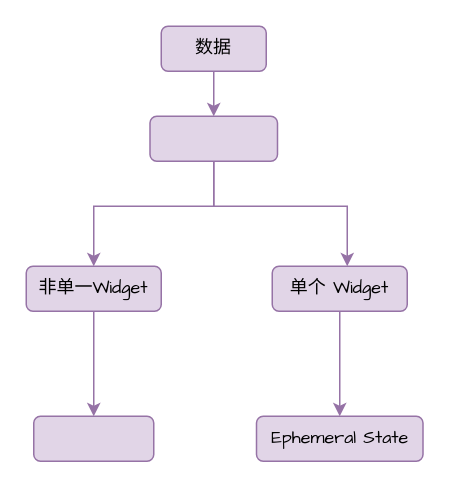
This 450x488 diagram has some shape labels left out. Each missing label, with the box of its shape:
App State: (32, 415, 154, 461)
由谁使用: (148, 115, 278, 161)
